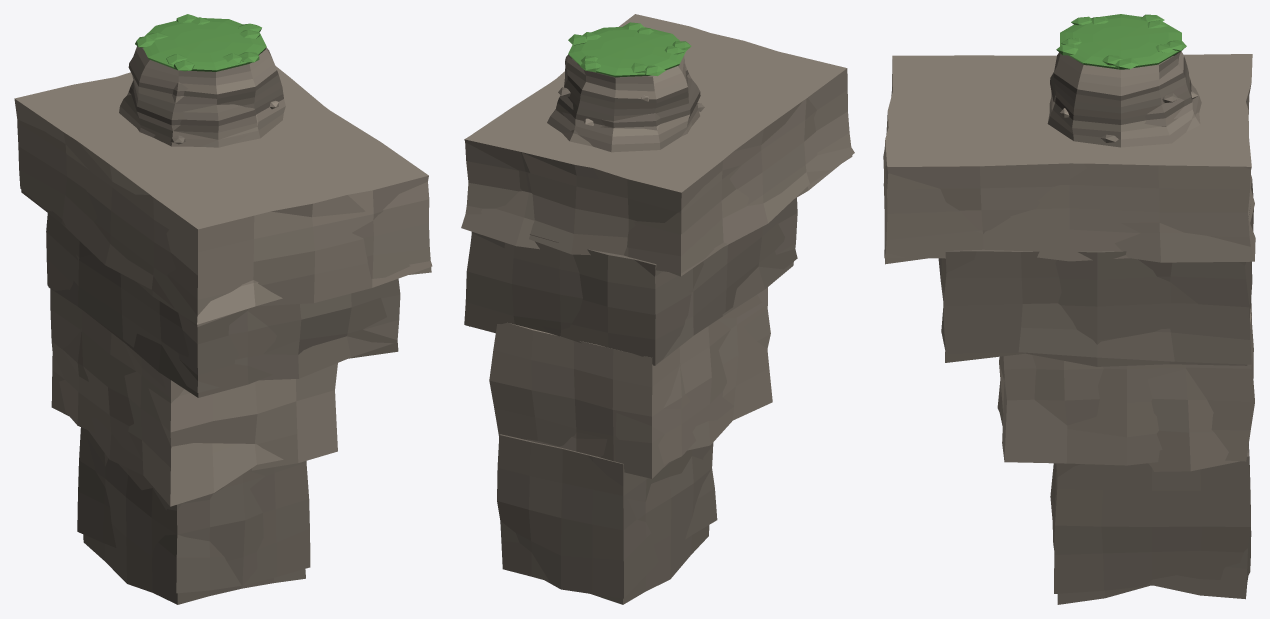
The model's file is Cliffs.fbx.
3 renders of one model, left to right at view 1: azimuth 30°, elevation 25°; view 2: azimuth 150°, elevation 25°; view 3: azimuth 270°, elevation 25°, orthographic. The views are drawn at different scales.
Visible parts, largest first — view 1: Ledge_B, Ledge_A, Pillar_B, Pillar_A; view 2: Ledge_B, Ledge_A, Pillar_B, Pillar_A; view 3: Ledge_B, Ledge_A, Pillar_B, Pillar_A.
Boxes of the visible parts, <box> form: Ledge_B: <box>17,69,432,593</box>; Ledge_A: <box>14,66,431,604</box>; Pillar_B: <box>119,14,285,146</box>; Pillar_A: <box>127,17,260,147</box>; Ledge_B: <box>461,14,852,598</box>; Ledge_A: <box>465,14,854,604</box>; Pillar_B: <box>547,22,704,152</box>; Pillar_A: <box>555,27,691,146</box>; Ledge_B: <box>883,55,1255,593</box>; Ledge_A: <box>883,54,1254,604</box>; Pillar_B: <box>1047,14,1201,147</box>; Pillar_A: <box>1049,16,1200,142</box>.
Bounding box in the file's own units: 3.44 × 7.57 × 4.73.
